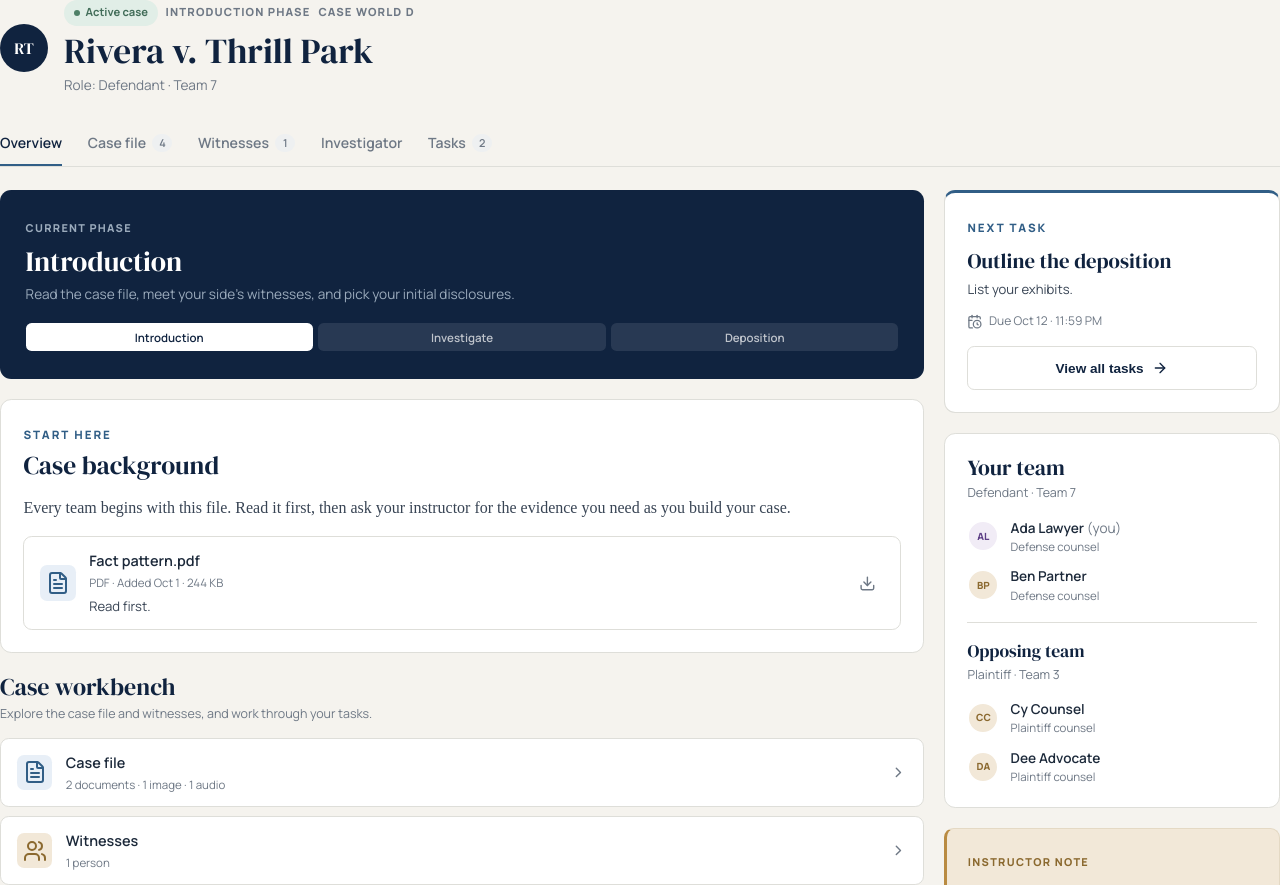
it: CaseWorkspaceView phases › shows the phase and keeps the investigator locked in introduction
Expected: the text "Introduction phase" is shown, [166,4,310,21]
Click the tab "Investigator": (362, 144) [321,121,402,166]
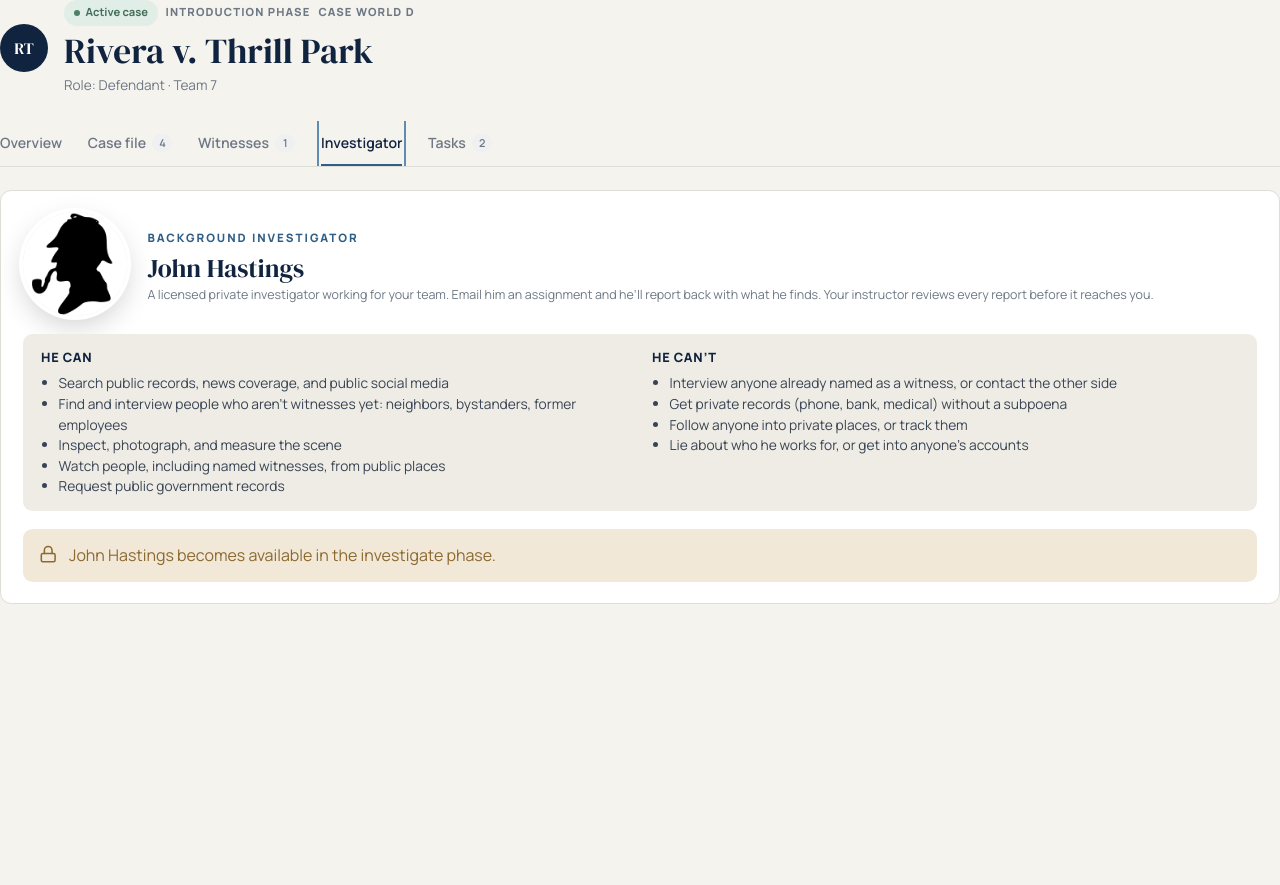
Now the heading "John Hastings" is shown, box [147,250,304,286]
